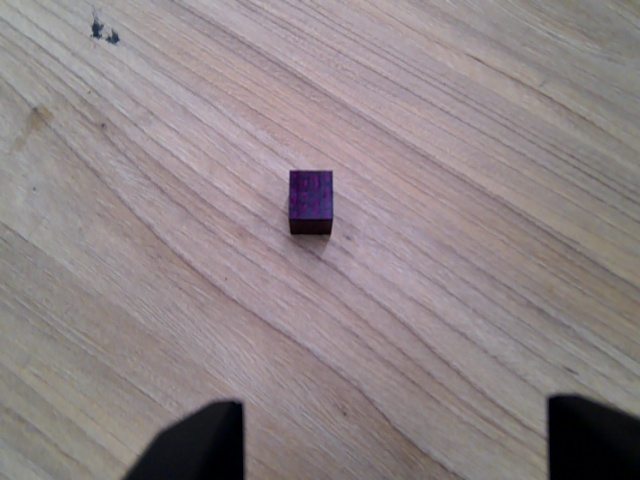brick: (283, 167, 339, 233)
